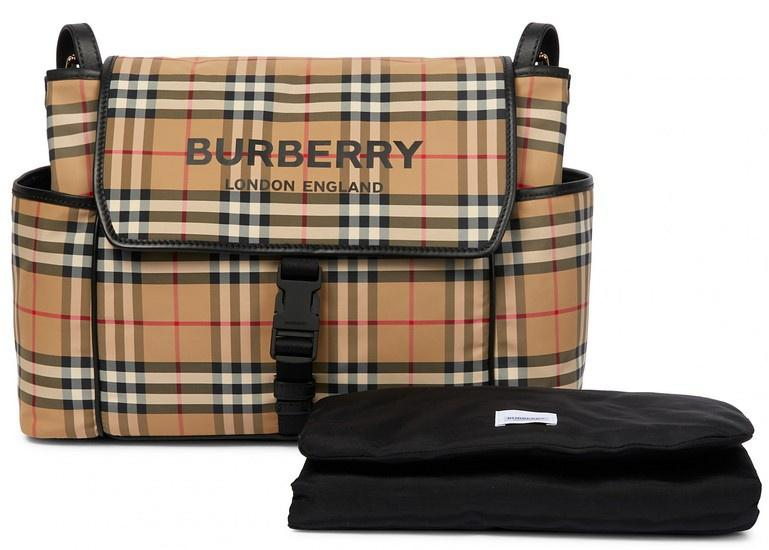BURBERRY: (188, 138, 423, 169)
